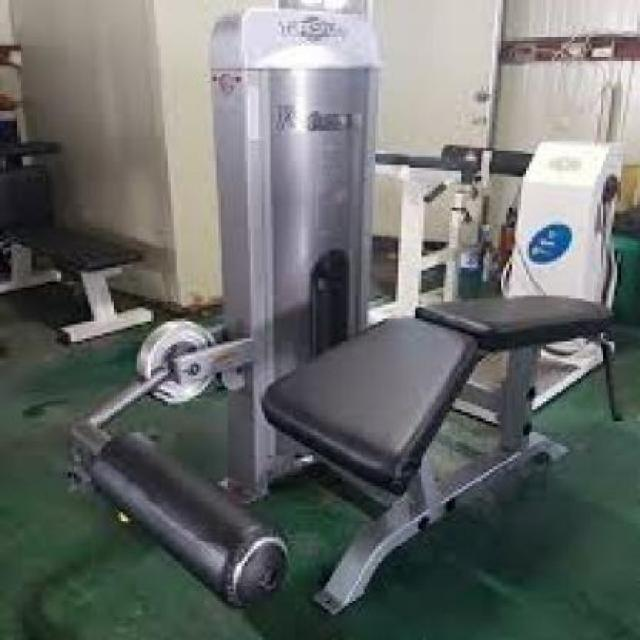reg curl machine: (63, 8, 619, 618)
